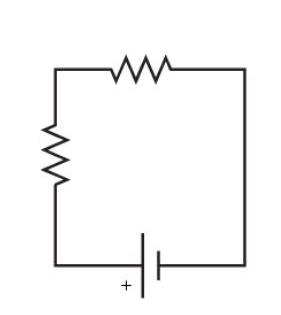resistor: (96, 45, 186, 97), (30, 110, 78, 196)
